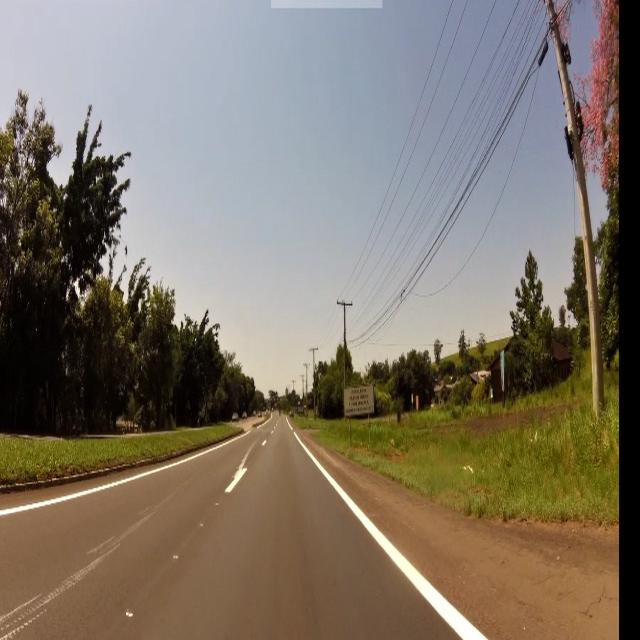E-5: (344, 385, 373, 414)
